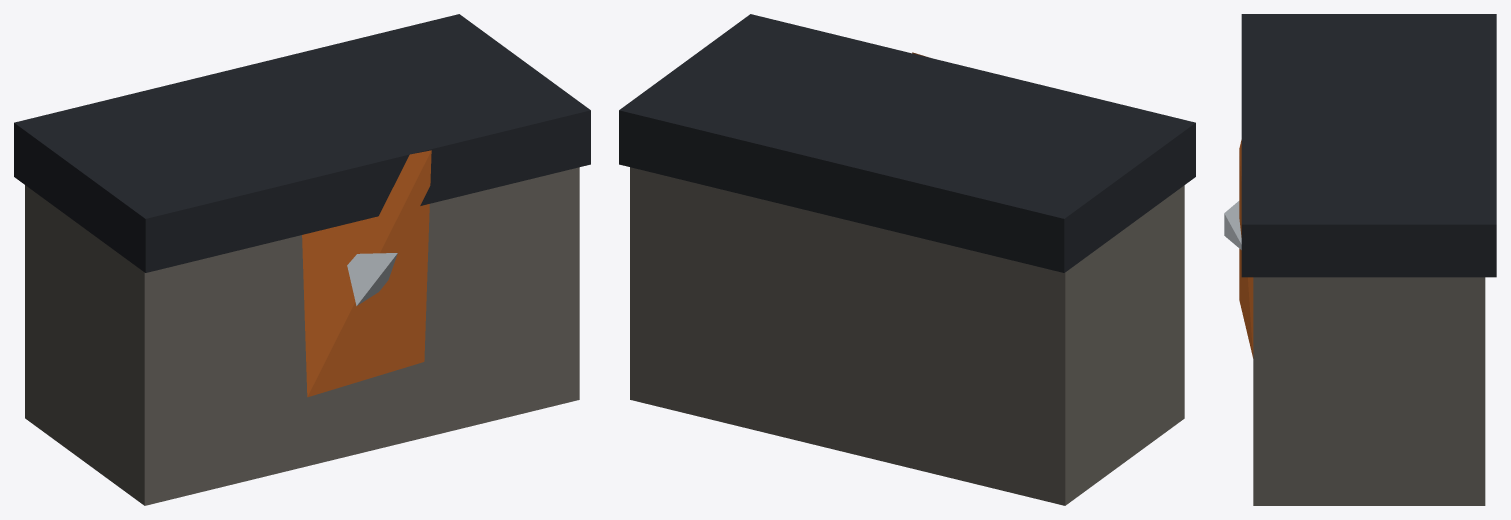
Rendered from kit-bag.lod.glb.
3 renders of one model, left to right at view 1: azimuth 30°, elevation 25°; view 2: azimuth 150°, elevation 25°; view 3: azimuth 270°, elevation 25°, orthographic. The views are drawn at different scales.
Visible parts, largest first — view 1: kit-bag; view 2: kit-bag; view 3: kit-bag.
Boxes of the visible parts, x1,y1,x2,y2 form: kit-bag: (14, 14, 590, 505); kit-bag: (619, 14, 1195, 505); kit-bag: (1224, 14, 1496, 505).
Size of the model in its own units: 0.43 by 0.27 by 0.235.
